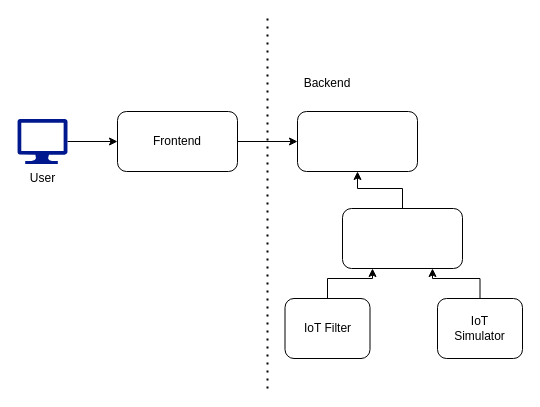
The diagram is 540 pixels wide and 407 high, and some of its shapes have lost their labels. The box of each missing label's shape, as (x1, y1, x2, y2) in pixels:
Blockchain: (296, 110, 418, 172)
IoT Handler: (342, 208, 462, 268)
